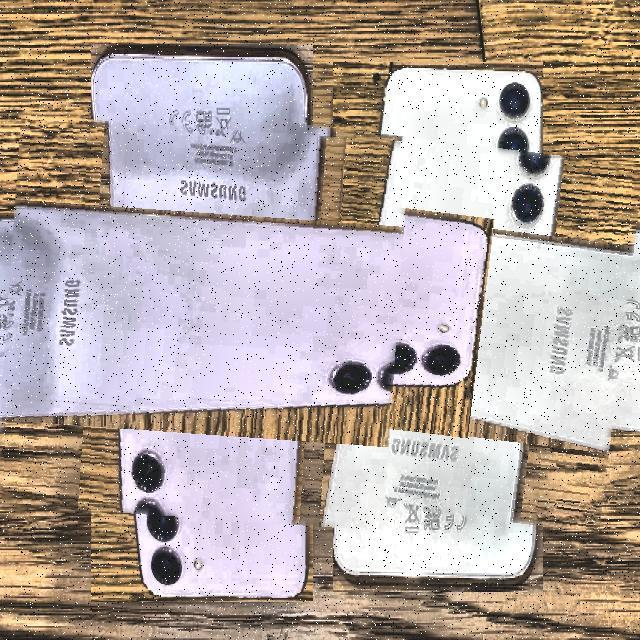Phone: (1, 122, 403, 525), (242, 132, 634, 522)
